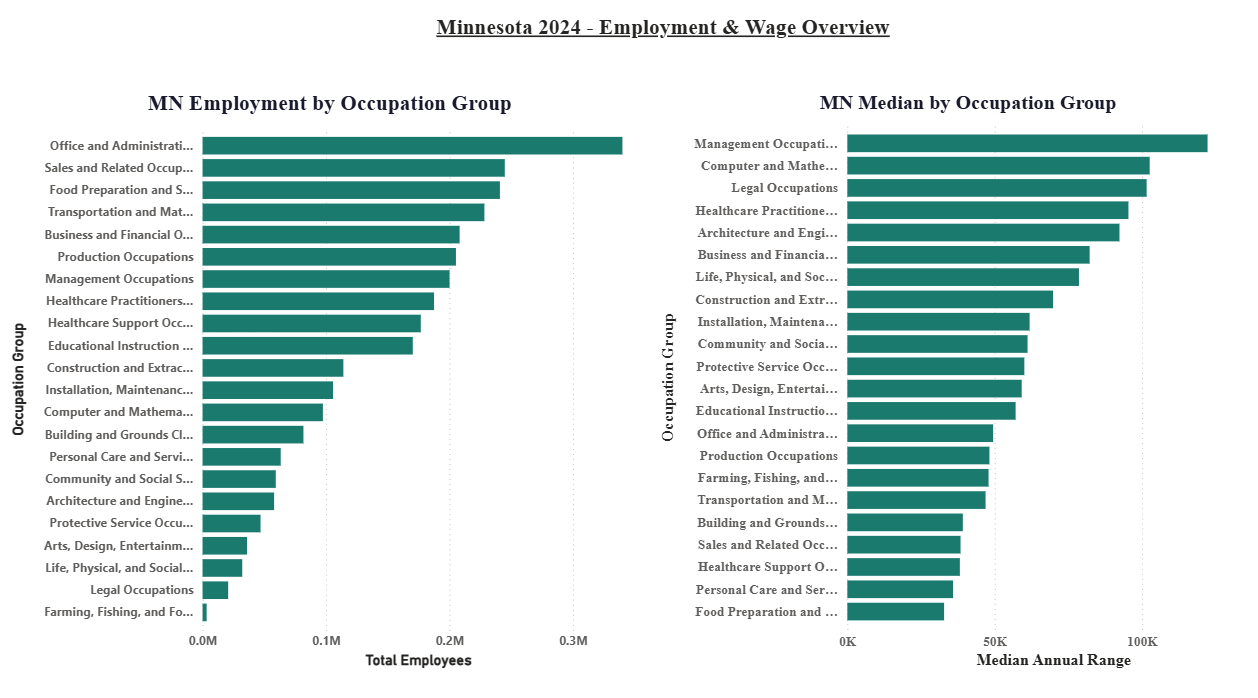

What the dashboard file says about the page in this screenshot:
{"tool":"powerbi","page":{"name":"Q1. Industry Wages","canvas":[1280,720],"ordinal":0},"visuals":[{"type":"clusteredBarChart","title":"MN Employment by Occupation Group","fields":{"Category":["oews_mn.OCC_TITLE"],"Y":["Sum(oews_mn.TOT_EMP)"]},"box":[10,114.4,646.9,579.7],"z":0},{"type":"clusteredBarChart","title":"MN Median by Occupation Group","fields":{"Category":["oews_mn.OCC_TITLE"],"Y":["Sum(oews_mn.A_MEDIAN)"]},"box":[656.8,114.4,623.2,579.7],"z":1000},{"type":"textbox","box":[394,34.1,584.5,56.9],"z":2000}]}

Visuals, with their boxes in screenshot pixels (x1, y1, x2, y2), scaled from the page's 1280x720 canvas onto the 1258x698 screenshot:
"MN Employment by Occupation Group" clusteredBarChart: crop(10, 111, 646, 673)
"MN Median by Occupation Group" clusteredBarChart: crop(646, 111, 1257, 673)
textbox: crop(387, 33, 962, 88)
